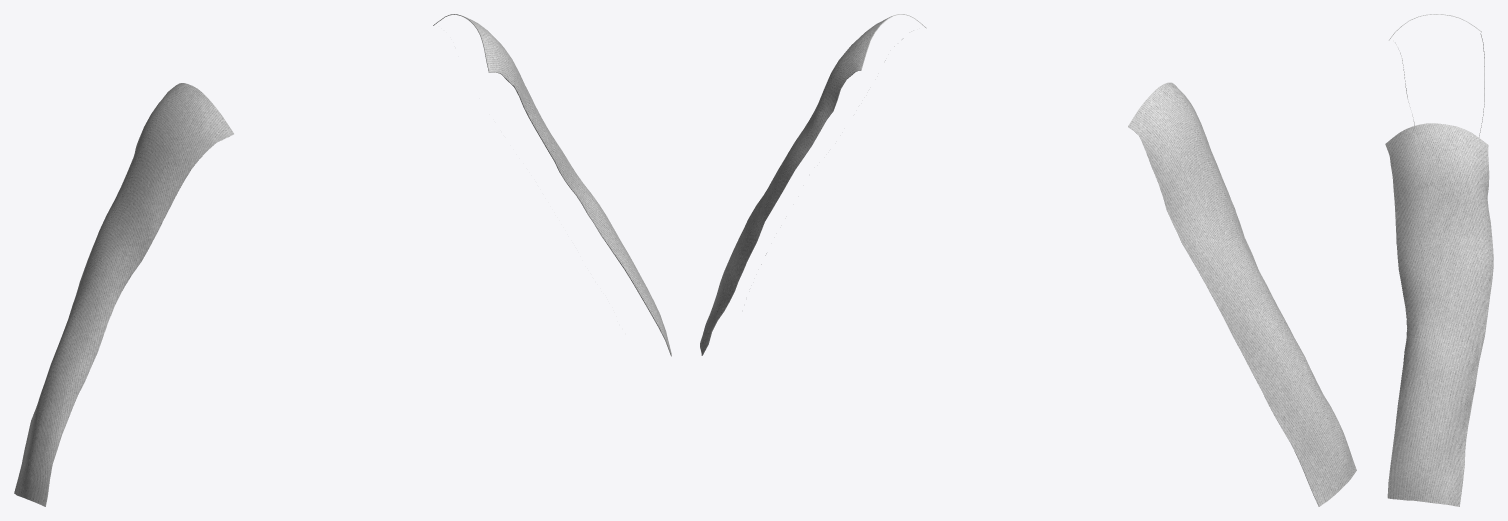
Rendered from Decor_Hand_Up_V2.glb.
3 views of the same model, side by side, from view 1: azimuth 30°, elevation 25°; view 2: azimuth 150°, elevation 25°; view 3: azimuth 270°, elevation 25° (orthographic). The views are drawn at different scales.
Visible parts, largest first — view 1: Decor_Hand_Up_V21, Rope1; view 2: Decor_Hand_Up_V21, Rope1; view 3: Decor_Hand_Up_V21, Rope1.
Part boxes in pixels (x1,y1,x2,y2): Decor_Hand_Up_V21: (14,14,671,506); Rope1: (15,25,669,506); Decor_Hand_Up_V21: (700,14,1356,506); Rope1: (702,28,1356,506); Decor_Hand_Up_V21: (1385,14,1493,506); Rope1: (1385,31,1493,506).
Bounding box in the file's own units: 1.85 × 1.04 × 0.3229.
Materials: 2 (2 with a texture image).
